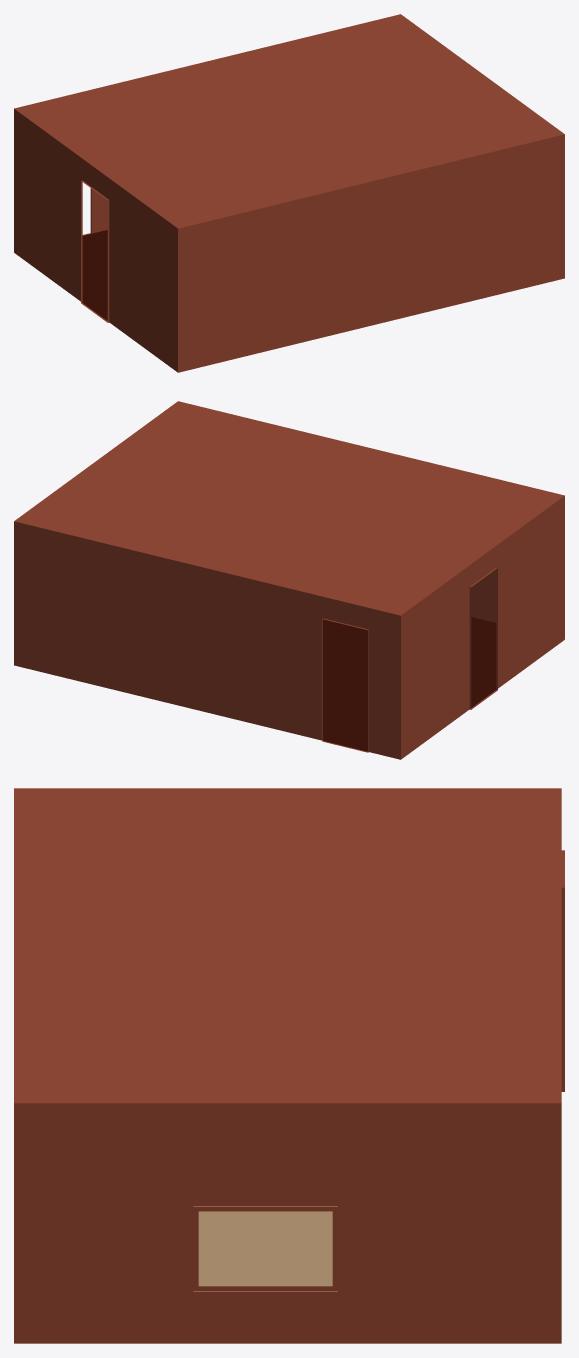
Rendered from room_3.glb.
3 views of the same model, one above another, from view 1: azimuth 30°, elevation 25°; view 2: azimuth 150°, elevation 25°; view 3: azimuth 270°, elevation 25° (orthographic). The views are drawn at different scales.
Parts seen in each view (by area): view 1: komnata_3; view 2: komnata_3; view 3: komnata_3.
Part boxes in pixels (x1,y1,x2,y2): komnata_3: (14,14,564,372); komnata_3: (14,401,564,759); komnata_3: (14,788,564,1343).
Size of what is drawn, in the model's own units: 7.03 by 2.53 by 5.17.
5 materials, 4 textured.
